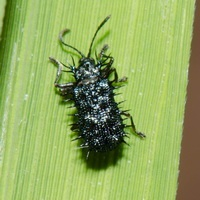insect: (49, 15, 145, 157)
